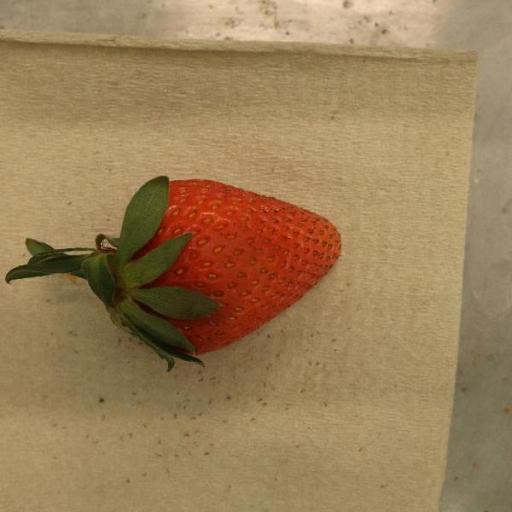Strawberry: (5, 176, 343, 372)
